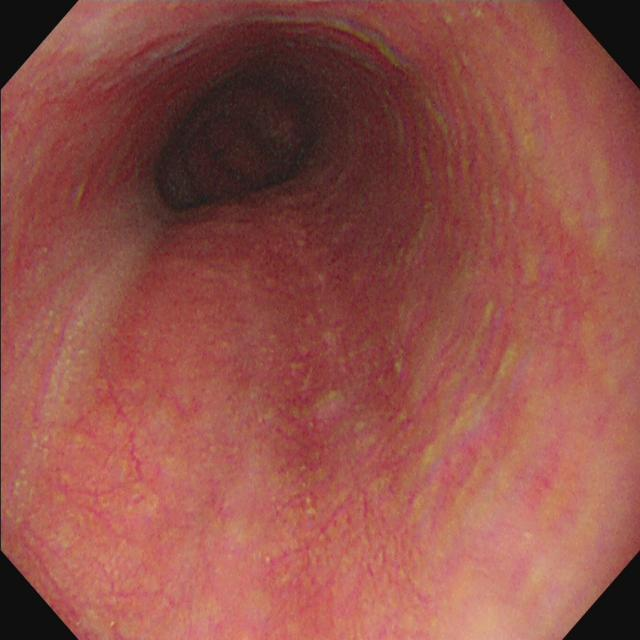D: (269, 328, 333, 539)
E: (144, 55, 334, 222)
